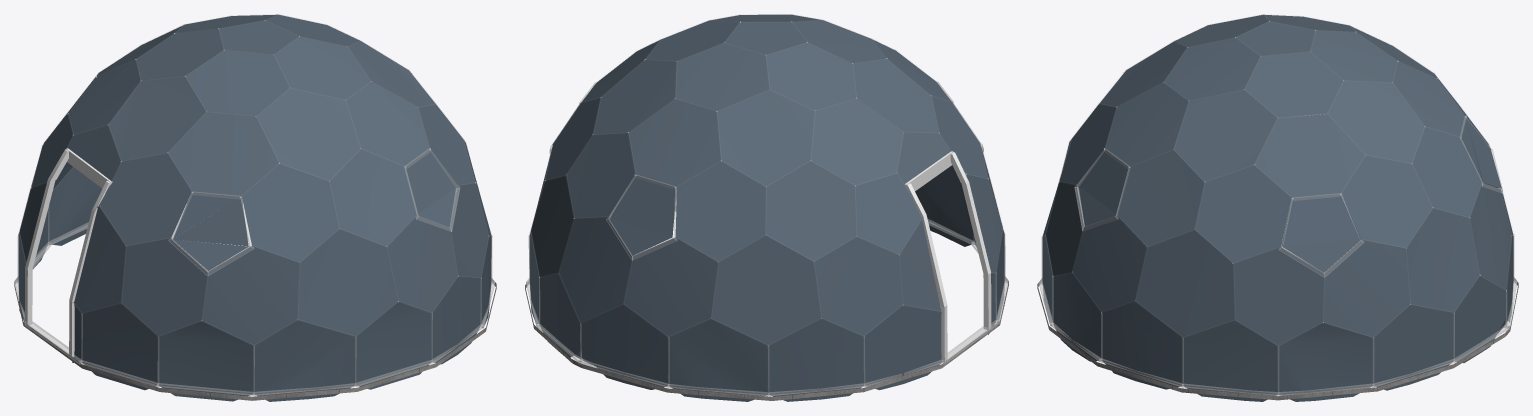
3 renders of one model, left to right at view 1: azimuth 30°, elevation 25°; view 2: azimuth 150°, elevation 25°; view 3: azimuth 270°, elevation 25°, orthographic.
Bounding box in the file's own units: 515 × 317 × 521.
Materials: 5 (1 with a texture image).
